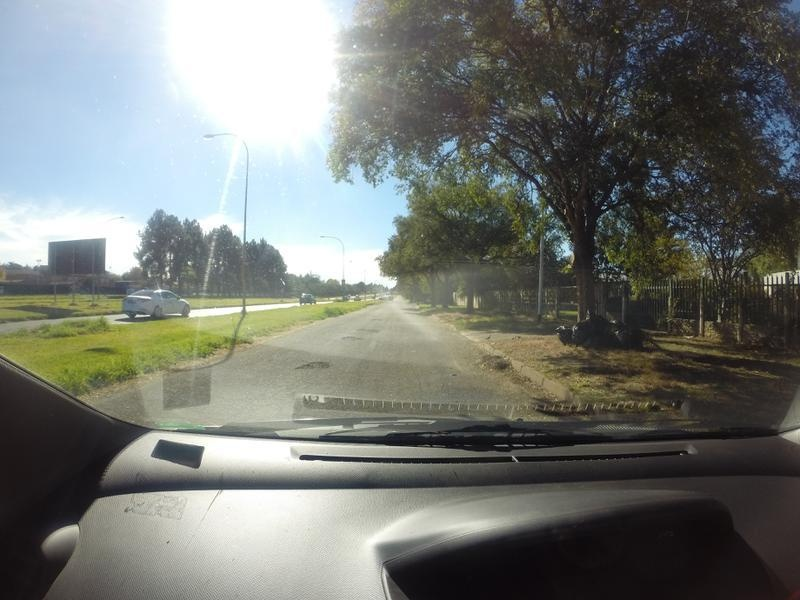pothole: (288, 351, 335, 376), (337, 333, 365, 346), (352, 323, 376, 336)
